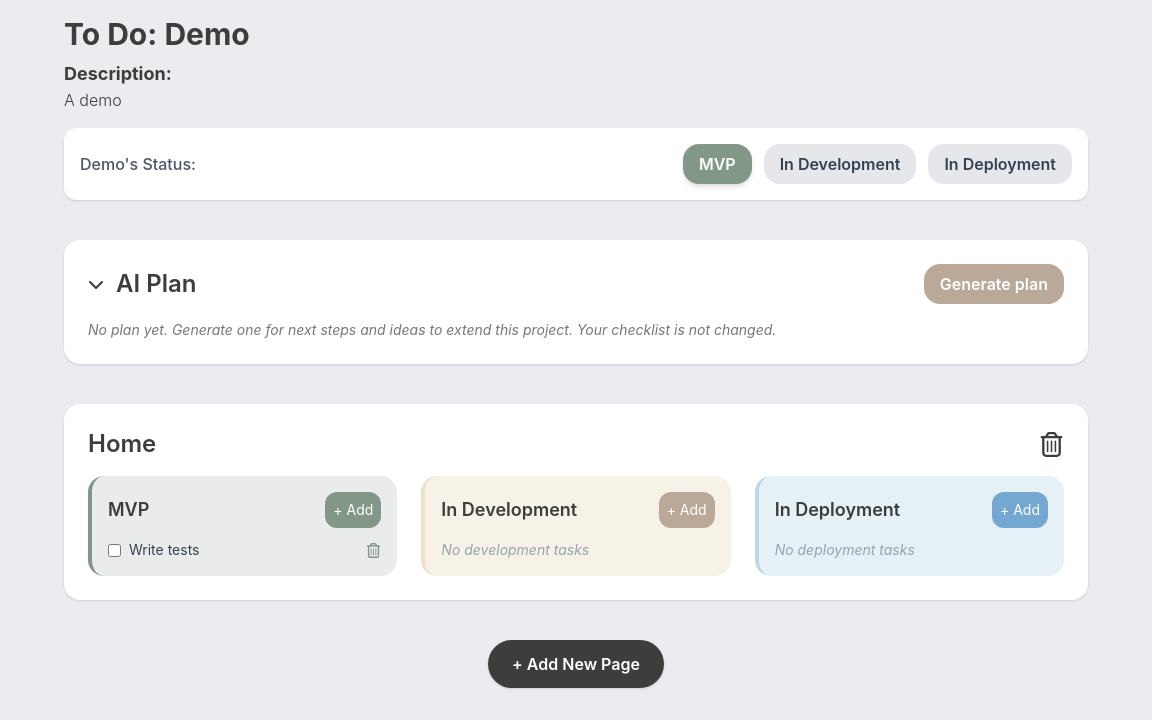
Test: ProjectDetail › deleting a task removes it
The width and height of the screenshot is (1152, 720).
Click the button without text in the row of "Write tests" at (374, 550), box [366,540,381,560]
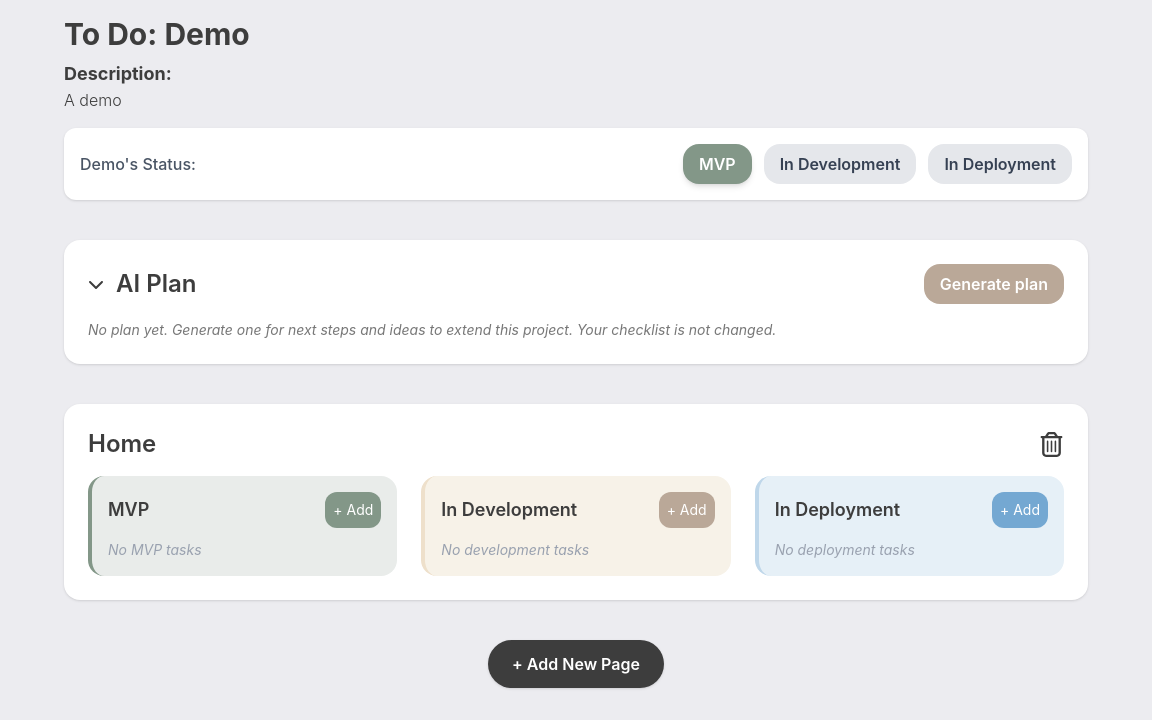
Expected: the text "Write tests" is gone
